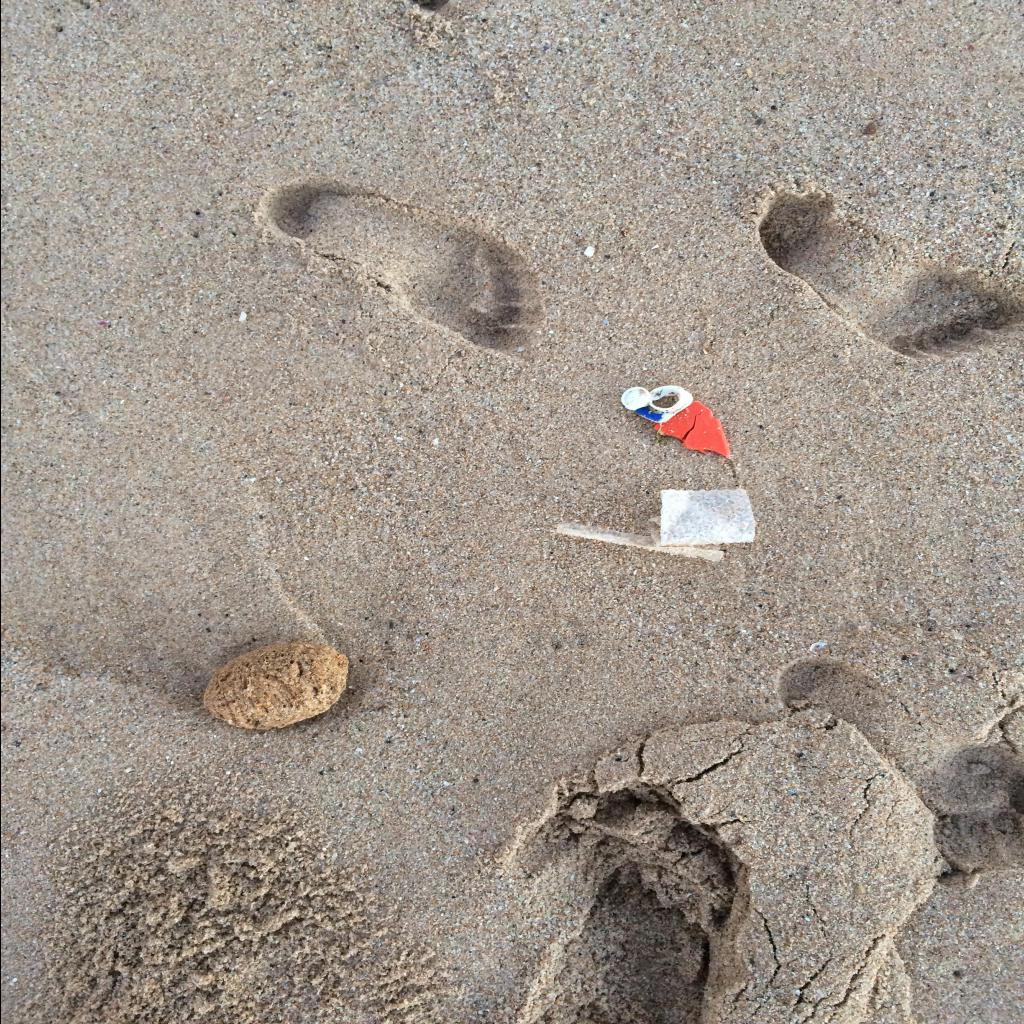Other plastic bottle: (653, 402, 729, 458), (620, 385, 692, 423)
Plastic film: (555, 524, 724, 562), (658, 488, 754, 546)
